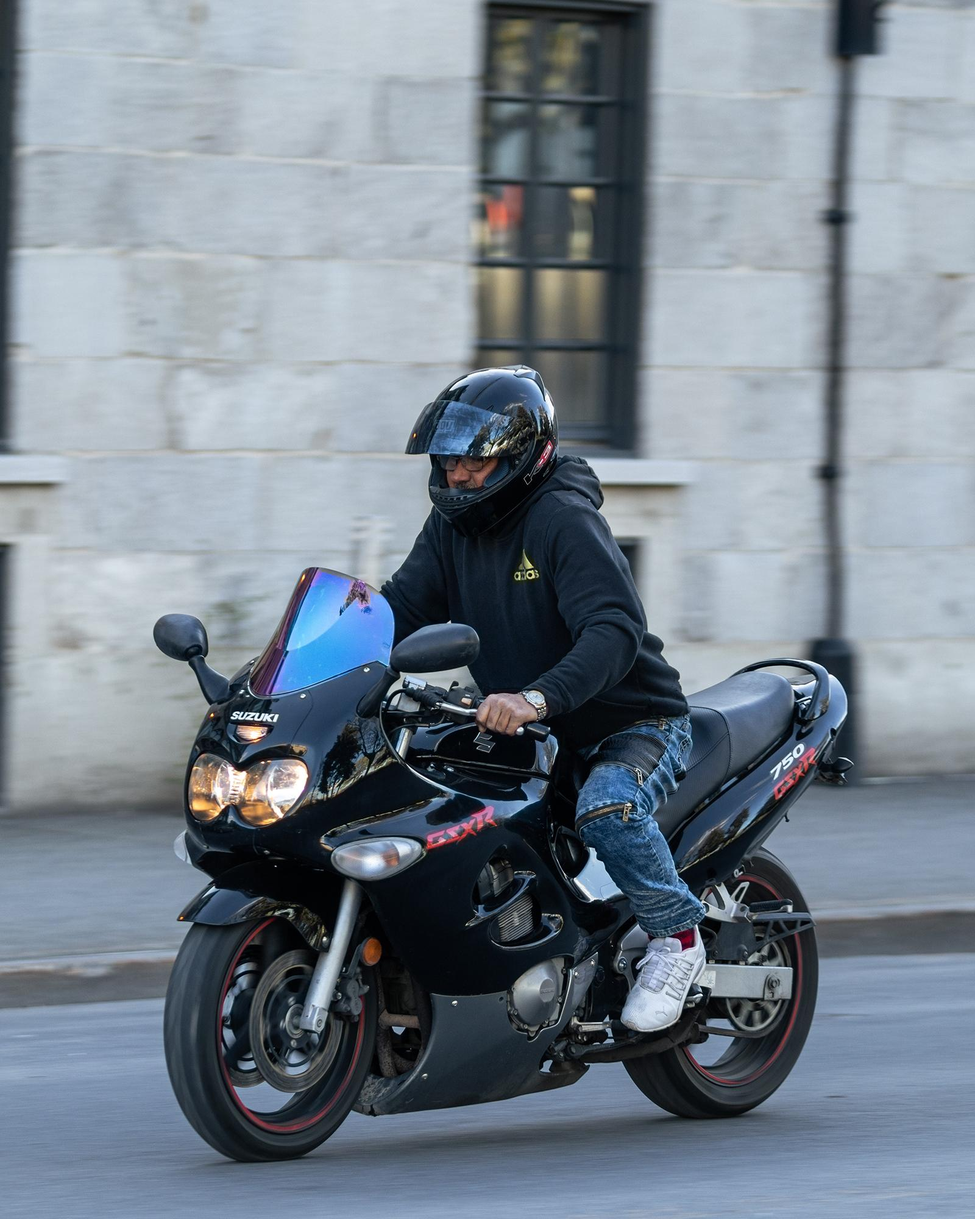helmet: (404, 363, 561, 540)
